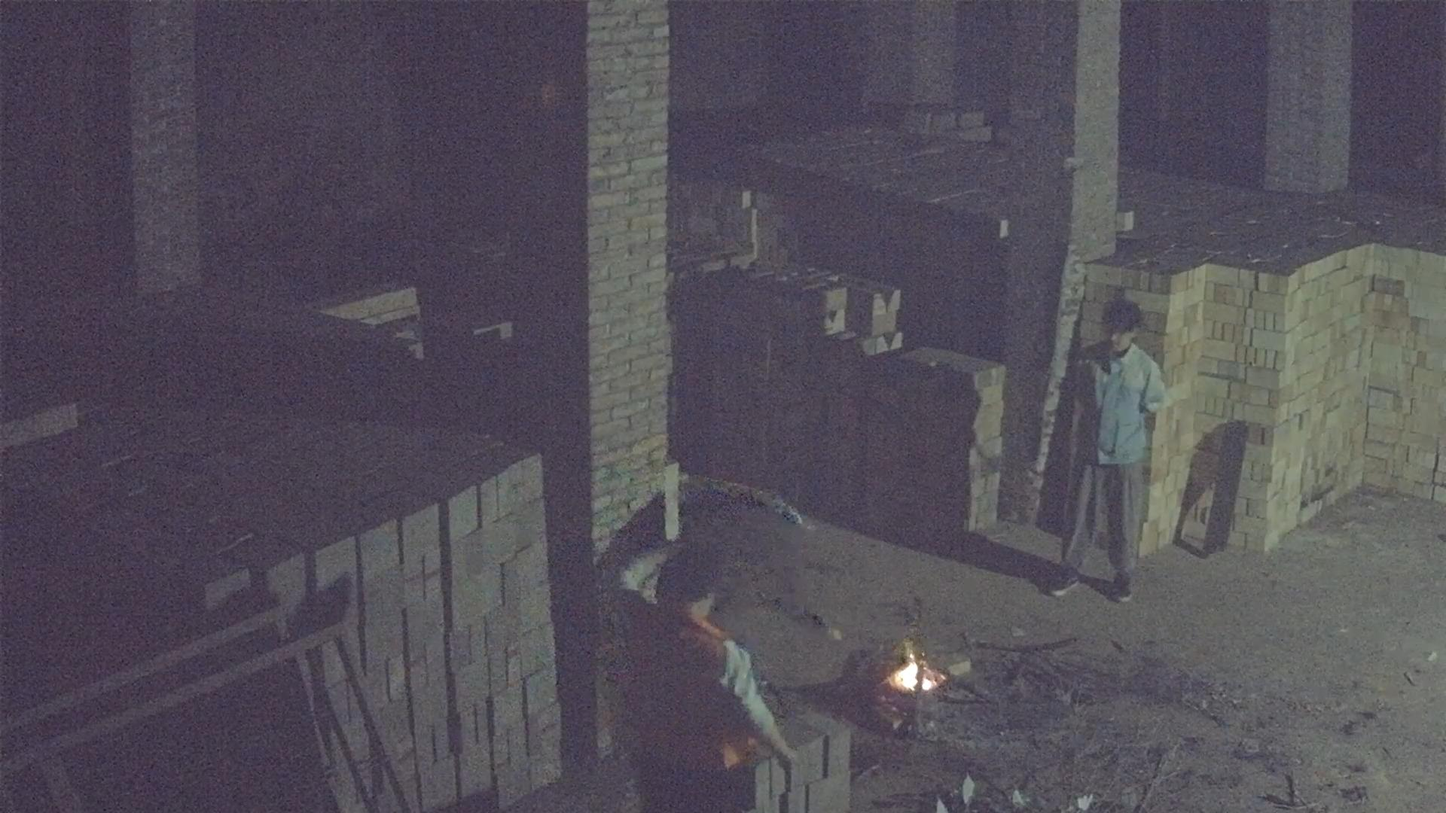fire: (889, 659, 944, 693)
